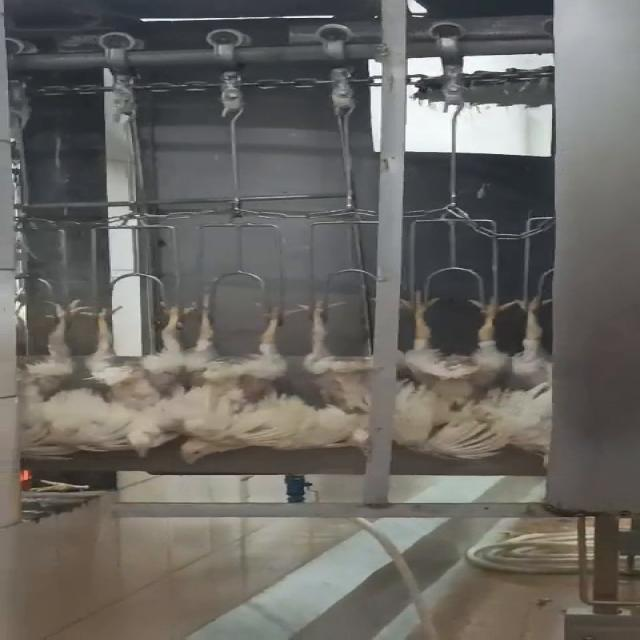chicken: (176, 301, 320, 468), (398, 294, 528, 465), (2, 298, 112, 468), (92, 292, 192, 462), (293, 298, 376, 453), (508, 290, 554, 468)
